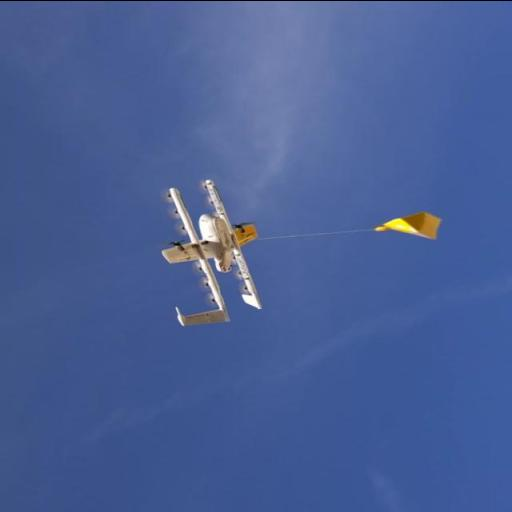uav: (144, 165, 262, 329)
